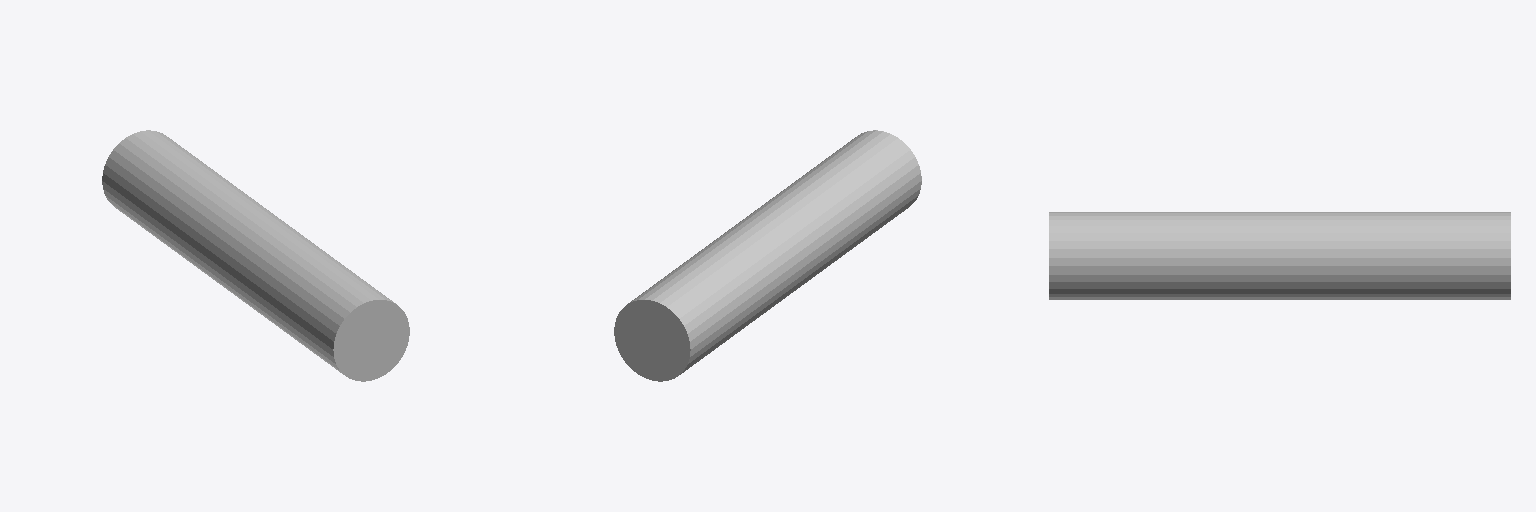
The model's file is stanford_bunny.obj.
3 renders of one model, left to right at view 1: azimuth 30°, elevation 25°; view 2: azimuth 150°, elevation 25°; view 3: azimuth 270°, elevation 25°, orthographic.
Visible parts, largest first — view 1: Cylinder; view 2: Cylinder; view 3: Cylinder.
Boxes of the visible parts, x1,y1,x2,y2 form: Cylinder: [102, 130, 409, 381]; Cylinder: [614, 130, 921, 381]; Cylinder: [1049, 212, 1510, 299].
Bounding box in the file's own units: 0.9805 × 0.9805 × 5.14.